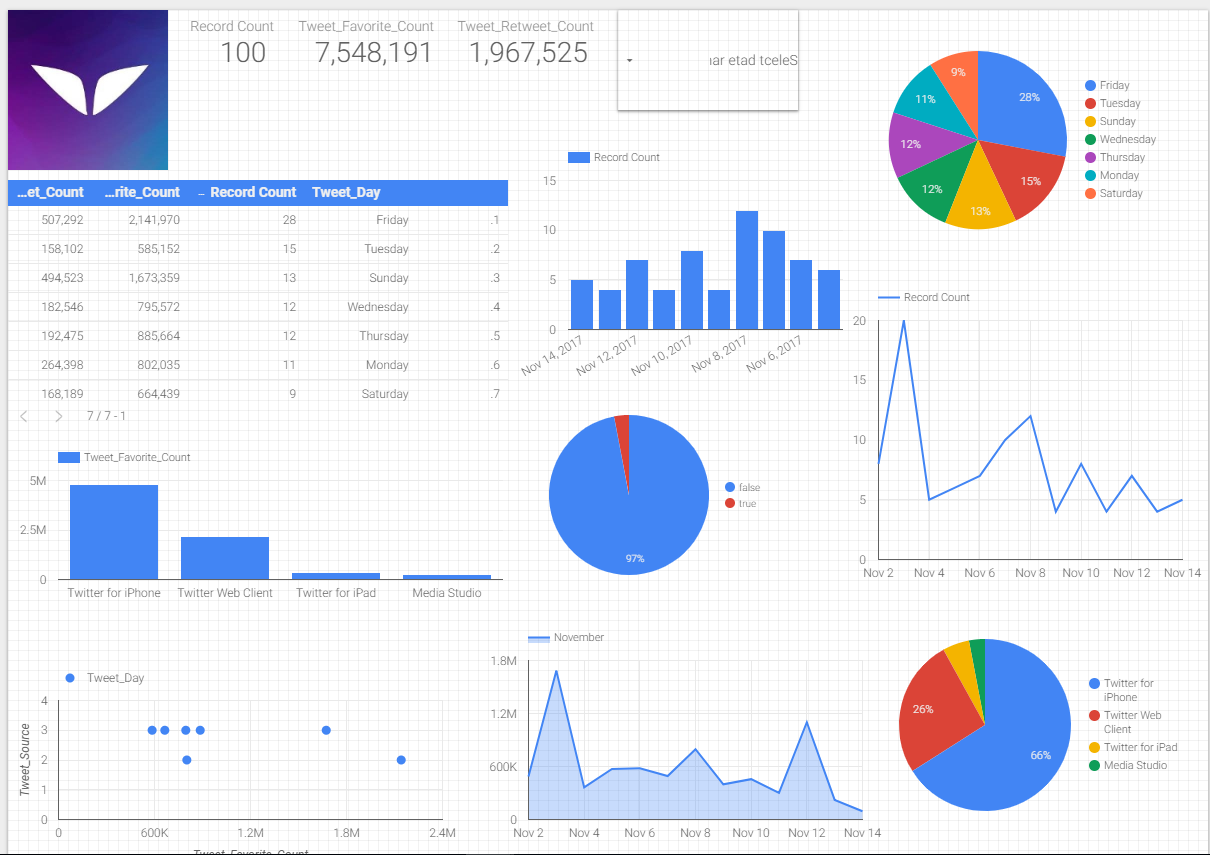

This screenshot's page, from the dashboard's own definition file:
{"tool":"powerbi","page":{"name":"User Tweets Analytics","canvas":[1280,720],"ordinal":3},"visuals":[{"type":"pieChart","fields":{"Category":["UserTweets.Tweet Source"],"Y":["CountNonNull(UserTweets.Tweet Id)"]},"box":[0,195.1,262.5,198.6],"z":2},{"type":"card","fields":{"Values":["Sum(UserTweets.Tweet Retweet Count)"]},"box":[202.1,27.1,162.7,87.5],"z":3},{"type":"card","fields":{"Values":["Sum(UserTweets.Tweet Favorite Count)"]},"box":[374.4,27.1,161,86.6],"z":4},{"type":"tableEx","fields":{"Values":["UserTweets.Tweet Month","UserTweets.Is Reply","UserTweets.Is Retweet","Sum(UserTweets.Tweet Retweet Count)","Sum(UserTweets.Tweet Favorite Count)"]},"box":[0,414.7,424.3,120.7],"z":5},{"type":"image","box":[0,0,179.3,176.7],"z":6},{"type":"donutChart","fields":{"Y":["CountNonNull(UserTweets.Tweet Id)"],"Category":["UserTweets.Is Retweet"]},"box":[262.5,173.2,250.2,220.5],"z":6},{"type":"funnel","fields":{"Y":["CountNonNull(UserTweets.Tweet Id)"],"Category":["UserTweets.Is Retweet"]},"box":[515.3,206.5,305.3,207.3],"z":7},{"type":"card","fields":{"Values":["CountNonNull(UserTweets.Tweet Id)"]},"box":[544.2,27.1,144.3,85.7],"z":8},{"type":"slicer","fields":{"Values":["UserTweets.Is Reply"]},"box":[841.6,42,117.2,69.1],"z":9},{"type":"slicer","fields":{"Values":["UserTweets.Is Retweet"]},"box":[694.6,39.4,138.2,71.7],"z":10},{"type":"slicer","fields":{"Values":["UserTweets.Tweet Time"]},"box":[965.8,41.1,250.2,77.9],"z":11},{"type":"lineClusteredColumnComboChart","fields":{"Category":["UserTweets.Tweet Day"],"Y":["Sum(UserTweets.Tweet Favorite Count)"],"Y2":["CountNonNull(UserTweets.Tweet Id)"]},"box":[430.4,464.5,523.2,254.6],"z":12},{"type":"donutChart","fields":{"Category":["UserTweets.Is Reply"],"Y":["CountNonNull(UserTweets.Tweet Id)"]},"box":[972.8,487.3,307.1,232.7],"z":12},{"type":"tableEx","fields":{"Values":["UserTweets.Tweet Month","UserTweets.Is Reply","UserTweets.Is Retweet","UserTweets.Tweet Source","UserTweets.Tweet Day","Sum(UserTweets.Tweet Favorite Count)"]},"box":[823.2,153.1,455.9,285.2],"z":14},{"type":"pieChart","fields":{"Y":["CountNonNull(UserTweets.Tweet Id)"],"Category":["UserTweets.Tweet Day"]},"box":[0,538,404.2,182],"z":15}]}

Visuals, with their boxes on the page's 1280x720 design canvas (x1, y1, x2, y2). These are canvas units, not pixel positions in the 1210x855 screenshot, which may show the page scaled, cropped or inside an application window:
pieChart - UserTweets.Tweet Source x CountNonNull(UserTweets.Tweet Id): pyautogui.locateOnScreen(0, 195, 262, 394)
card - Sum(UserTweets.Tweet Retweet Count): pyautogui.locateOnScreen(202, 27, 365, 115)
card - Sum(UserTweets.Tweet Favorite Count): pyautogui.locateOnScreen(374, 27, 535, 114)
tableEx - UserTweets.Tweet Month x UserTweets.Is Reply: pyautogui.locateOnScreen(0, 415, 424, 535)
image: pyautogui.locateOnScreen(0, 0, 179, 177)
donutChart - CountNonNull(UserTweets.Tweet Id) x UserTweets.Is Retweet: pyautogui.locateOnScreen(262, 173, 513, 394)
funnel - CountNonNull(UserTweets.Tweet Id) x UserTweets.Is Retweet: pyautogui.locateOnScreen(515, 206, 821, 414)
card - CountNonNull(UserTweets.Tweet Id): pyautogui.locateOnScreen(544, 27, 688, 113)
slicer - UserTweets.Is Reply: pyautogui.locateOnScreen(842, 42, 959, 111)
slicer - UserTweets.Is Retweet: pyautogui.locateOnScreen(695, 39, 833, 111)
slicer - UserTweets.Tweet Time: pyautogui.locateOnScreen(966, 41, 1216, 119)
lineClusteredColumnComboChart - UserTweets.Tweet Day x Sum(UserTweets.Tweet Favorite Count): pyautogui.locateOnScreen(430, 464, 954, 719)
donutChart - UserTweets.Is Reply x CountNonNull(UserTweets.Tweet Id): pyautogui.locateOnScreen(973, 487, 1280, 720)
tableEx - UserTweets.Tweet Month x UserTweets.Is Reply: pyautogui.locateOnScreen(823, 153, 1279, 438)
pieChart - CountNonNull(UserTweets.Tweet Id) x UserTweets.Tweet Day: pyautogui.locateOnScreen(0, 538, 404, 720)
